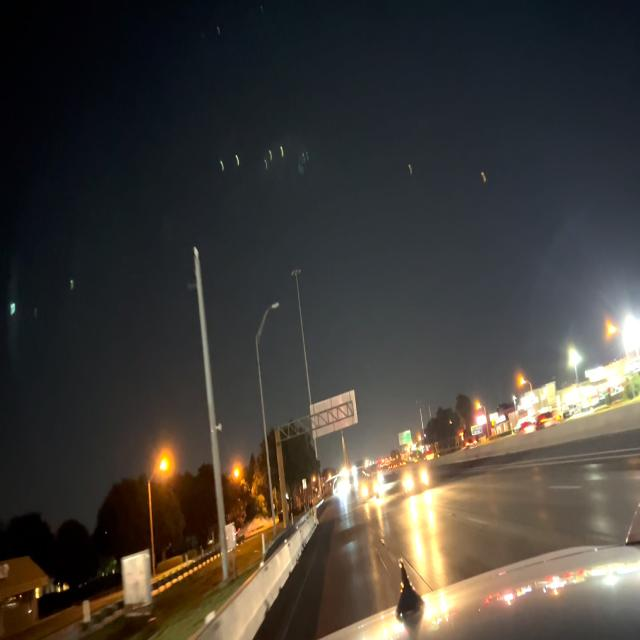back-of-sign: (307, 388, 358, 437)
